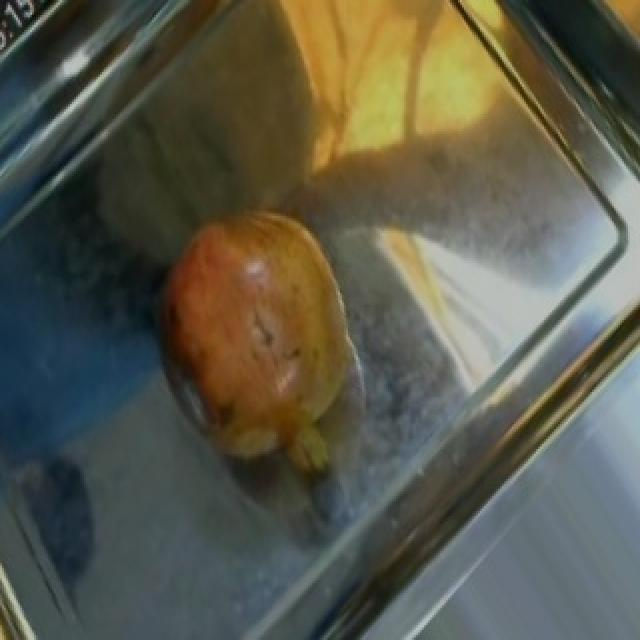fruit: (136, 181, 384, 471)
